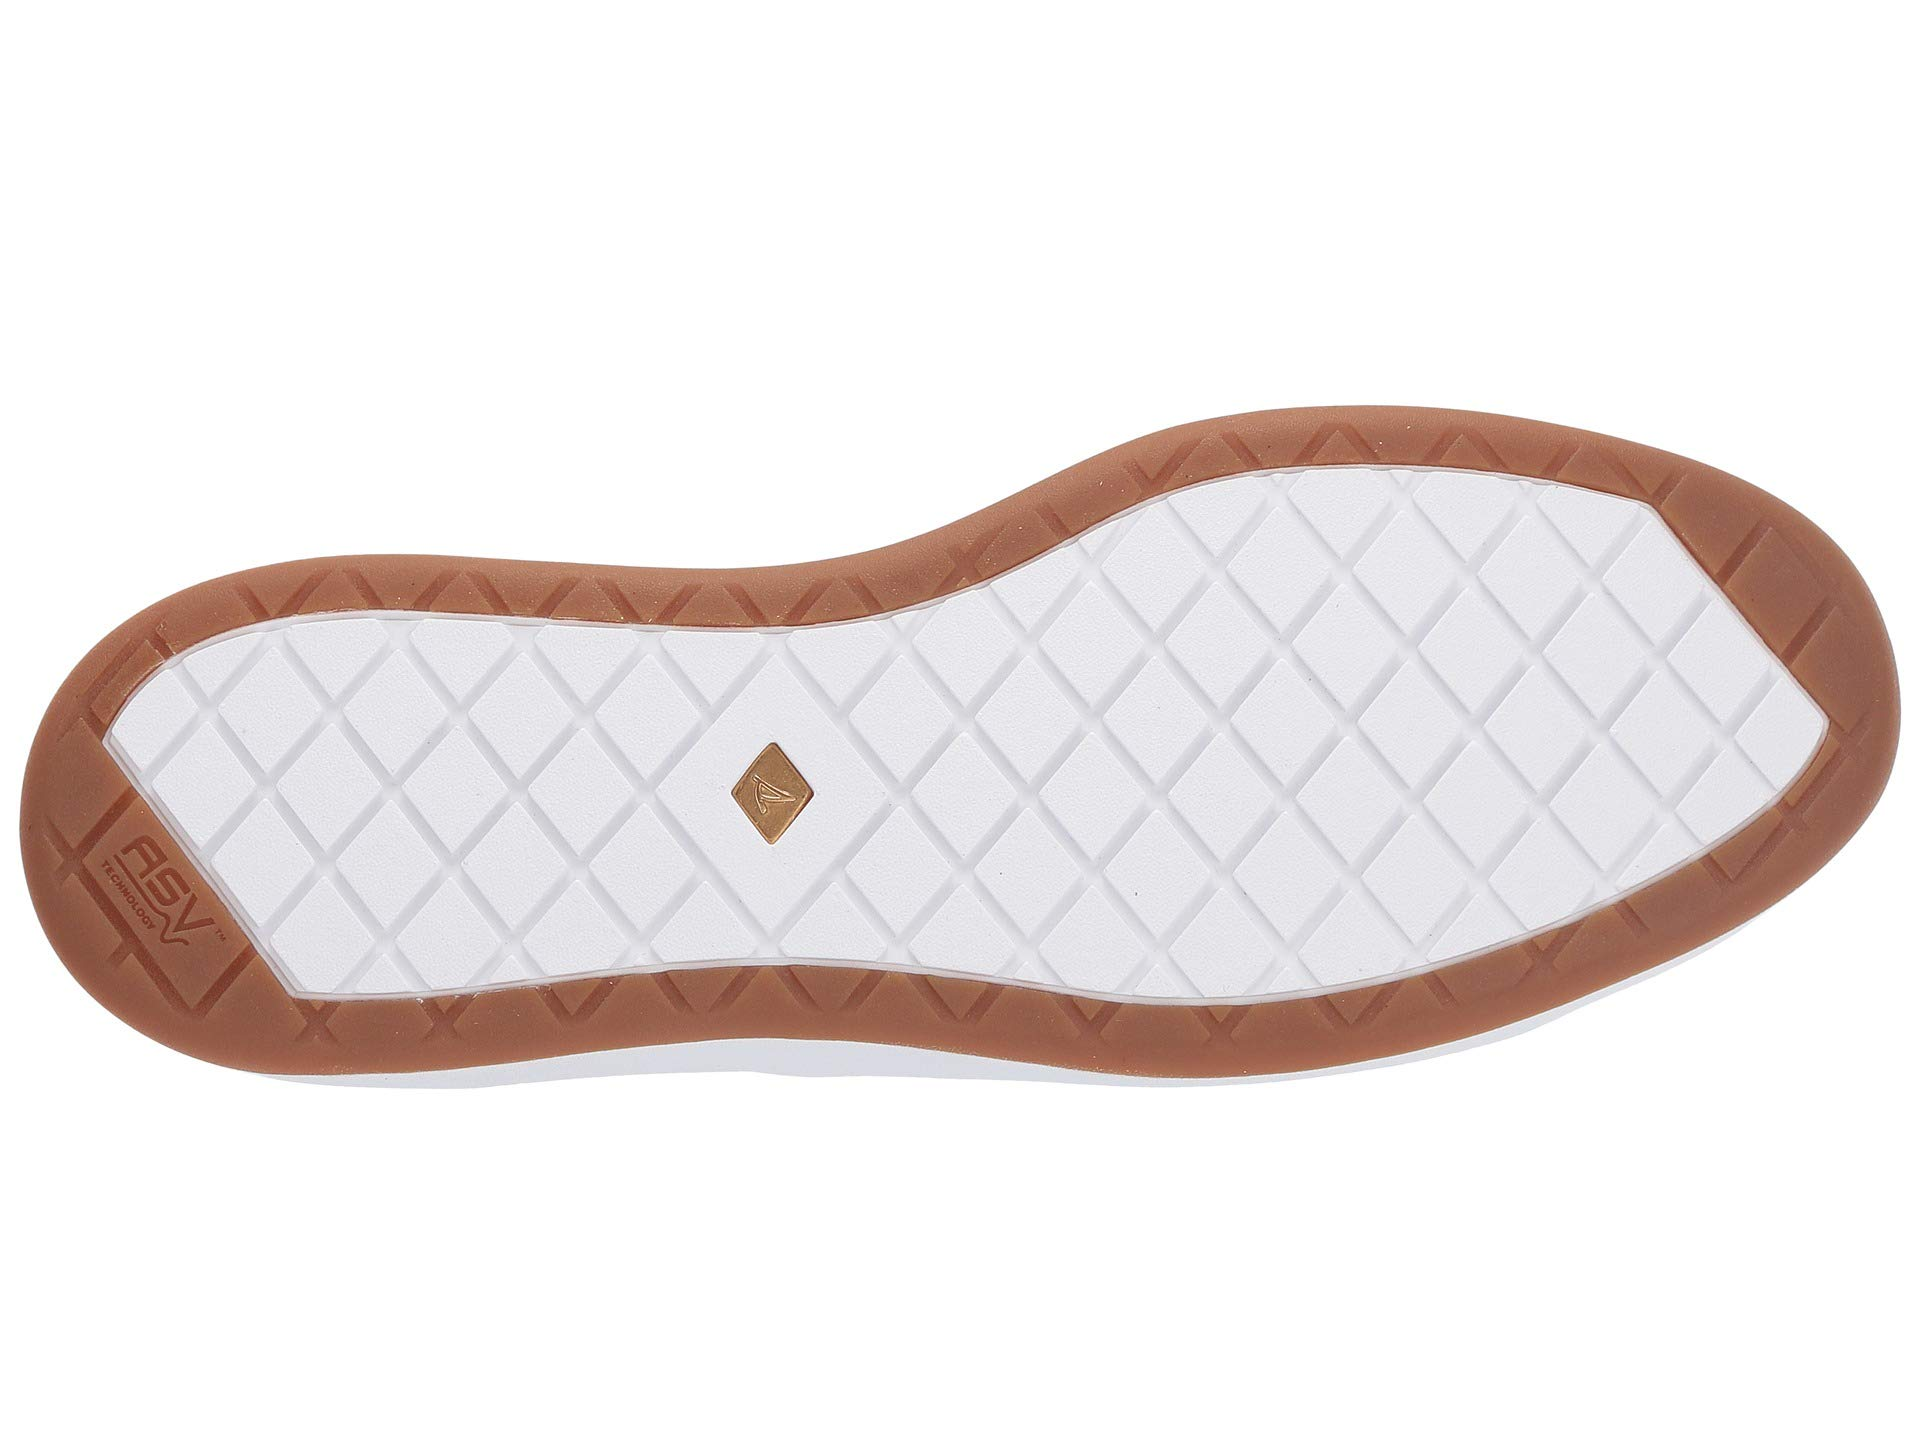quad: (989, 504, 1457, 964), (225, 632, 726, 983), (224, 632, 679, 973), (1445, 464, 1769, 915), (658, 613, 924, 1001), (85, 782, 242, 1006)
text: (85, 782, 242, 1006)
